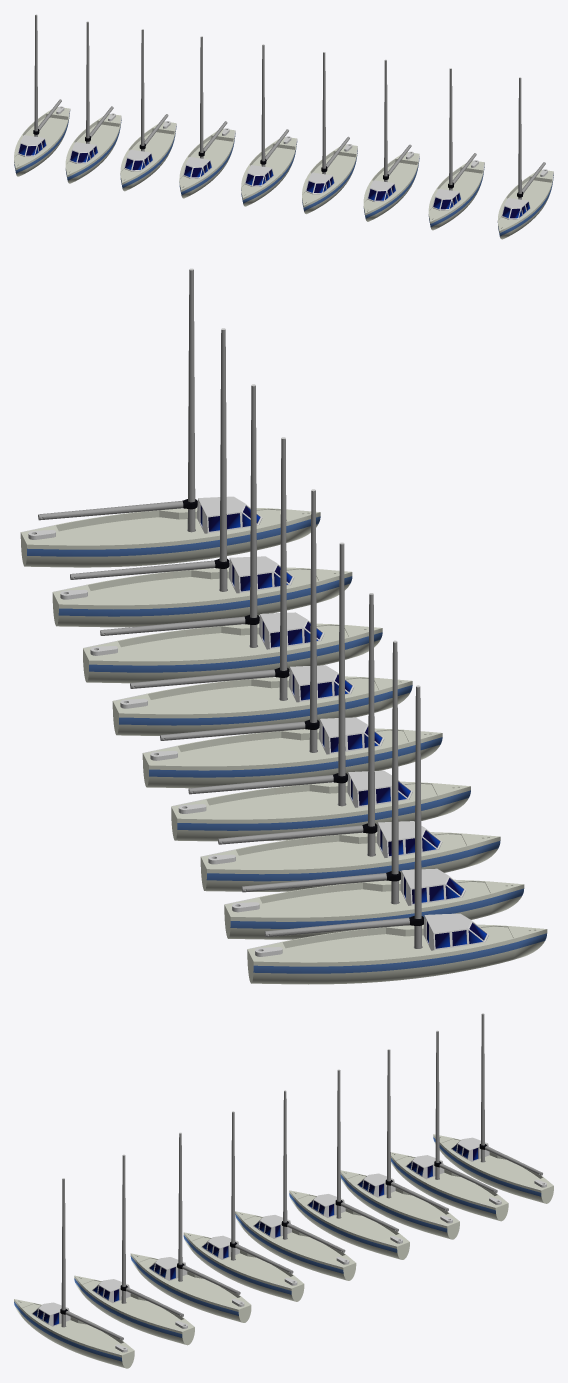
The model's file is boatsT.glb.
3 renders of one model, top to bottom at view 1: azimuth 30°, elevation 25°; view 2: azimuth 150°, elevation 25°; view 3: azimuth 270°, elevation 25°, orthographic. The views are drawn at different scales.
Visible parts, largest first — view 1: boat_simple.007, boat_simple.001, boat_simple.008, boat_simple.006, boat_simple.003, boat_simple.002, boat_simple.005, boat_simple, boat_simple.004; view 2: boat_simple, boat_simple.008, boat_simple.007, boat_simple.004, boat_simple.006, boat_simple.005, boat_simple.003, boat_simple.002, boat_simple.001; view 3: boat_simple.007, boat_simple.003, boat_simple.004, boat_simple.005, boat_simple.006, boat_simple.008, boat_simple.002, boat_simple.001, boat_simple.
Boxes of the visible parts, x1=… form: boat_simple.007: x1=428, y1=68, x2=484, y2=230; boat_simple.001: x1=65, y1=21, x2=121, y2=183; boat_simple.008: x1=497, y1=77, x2=553, y2=239; boat_simple.006: x1=363, y1=59, x2=419, y2=221; boat_simple.003: x1=179, y1=36, x2=235, y2=198; boat_simple.002: x1=120, y1=29, x2=176, y2=191; boat_simple.005: x1=302, y1=52, x2=357, y2=214; boat_simple: x1=14, y1=14, x2=70, y2=176; boat_simple.004: x1=241, y1=44, x2=297, y2=206; boat_simple: x1=247, y1=685, x2=547, y2=984; boat_simple.008: x1=20, y1=268, x2=320, y2=567; boat_simple.007: x1=52, y1=328, x2=352, y2=627; boat_simple.004: x1=142, y1=489, x2=442, y2=788; boat_simple.006: x1=83, y1=384, x2=382, y2=683; boat_simple.005: x1=112, y1=437, x2=412, y2=735; boat_simple.003: x1=171, y1=542, x2=470, y2=841; boat_simple.002: x1=200, y1=593, x2=500, y2=891; boat_simple.001: x1=224, y1=640, x2=524, y2=939; boat_simple.007: x1=74, y1=1154, x2=194, y2=1345; boat_simple.003: x1=289, y1=1069, x2=409, y2=1259; boat_simple.004: x1=235, y1=1090, x2=356, y2=1280; boat_simple.005: x1=183, y1=1111, x2=304, y2=1301; boat_simple.006: x1=130, y1=1132, x2=251, y2=1322; boat_simple.008: x1=14, y1=1178, x2=134, y2=1368; boat_simple.002: x1=340, y1=1049, x2=459, y2=1239; boat_simple.001: x1=391, y1=1030, x2=508, y2=1221; boat_simple: x1=433, y1=1013, x2=553, y2=1203.
Size of the model in its own units: 28.59 by 9.6 by 29.49.
